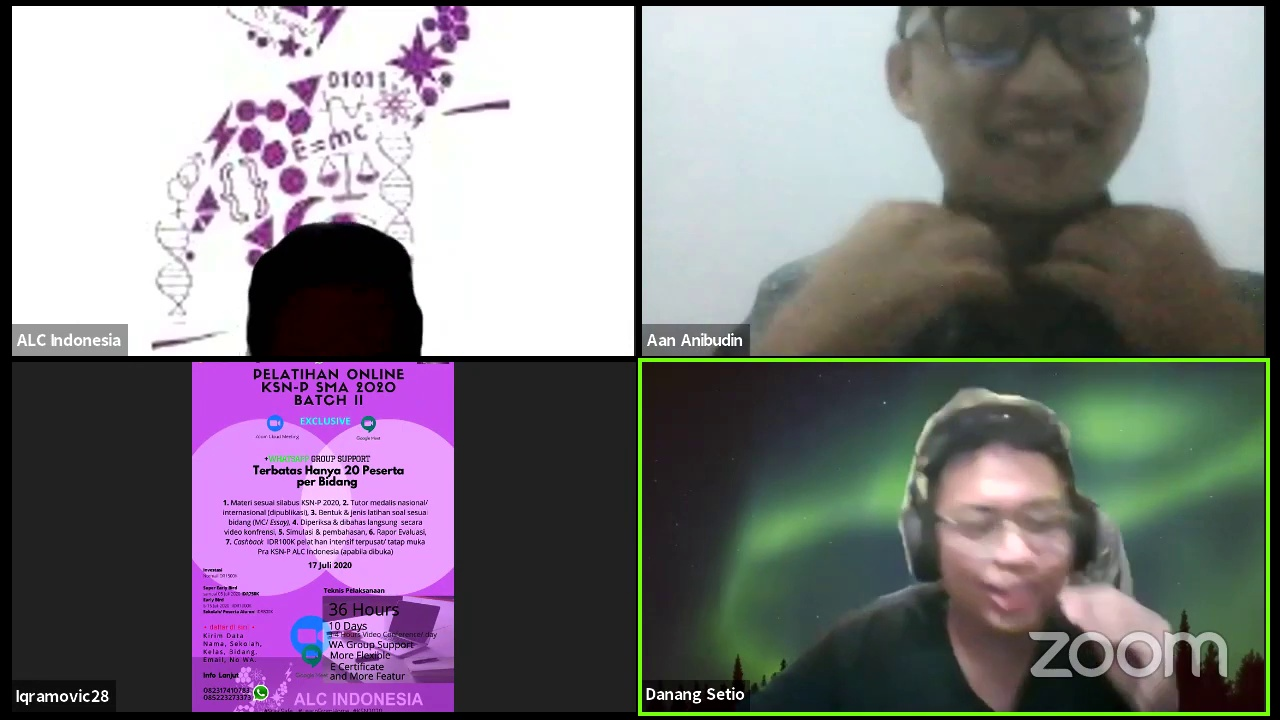Distracted: (888, 17, 1158, 212), (899, 417, 1110, 628), (243, 241, 413, 353)
